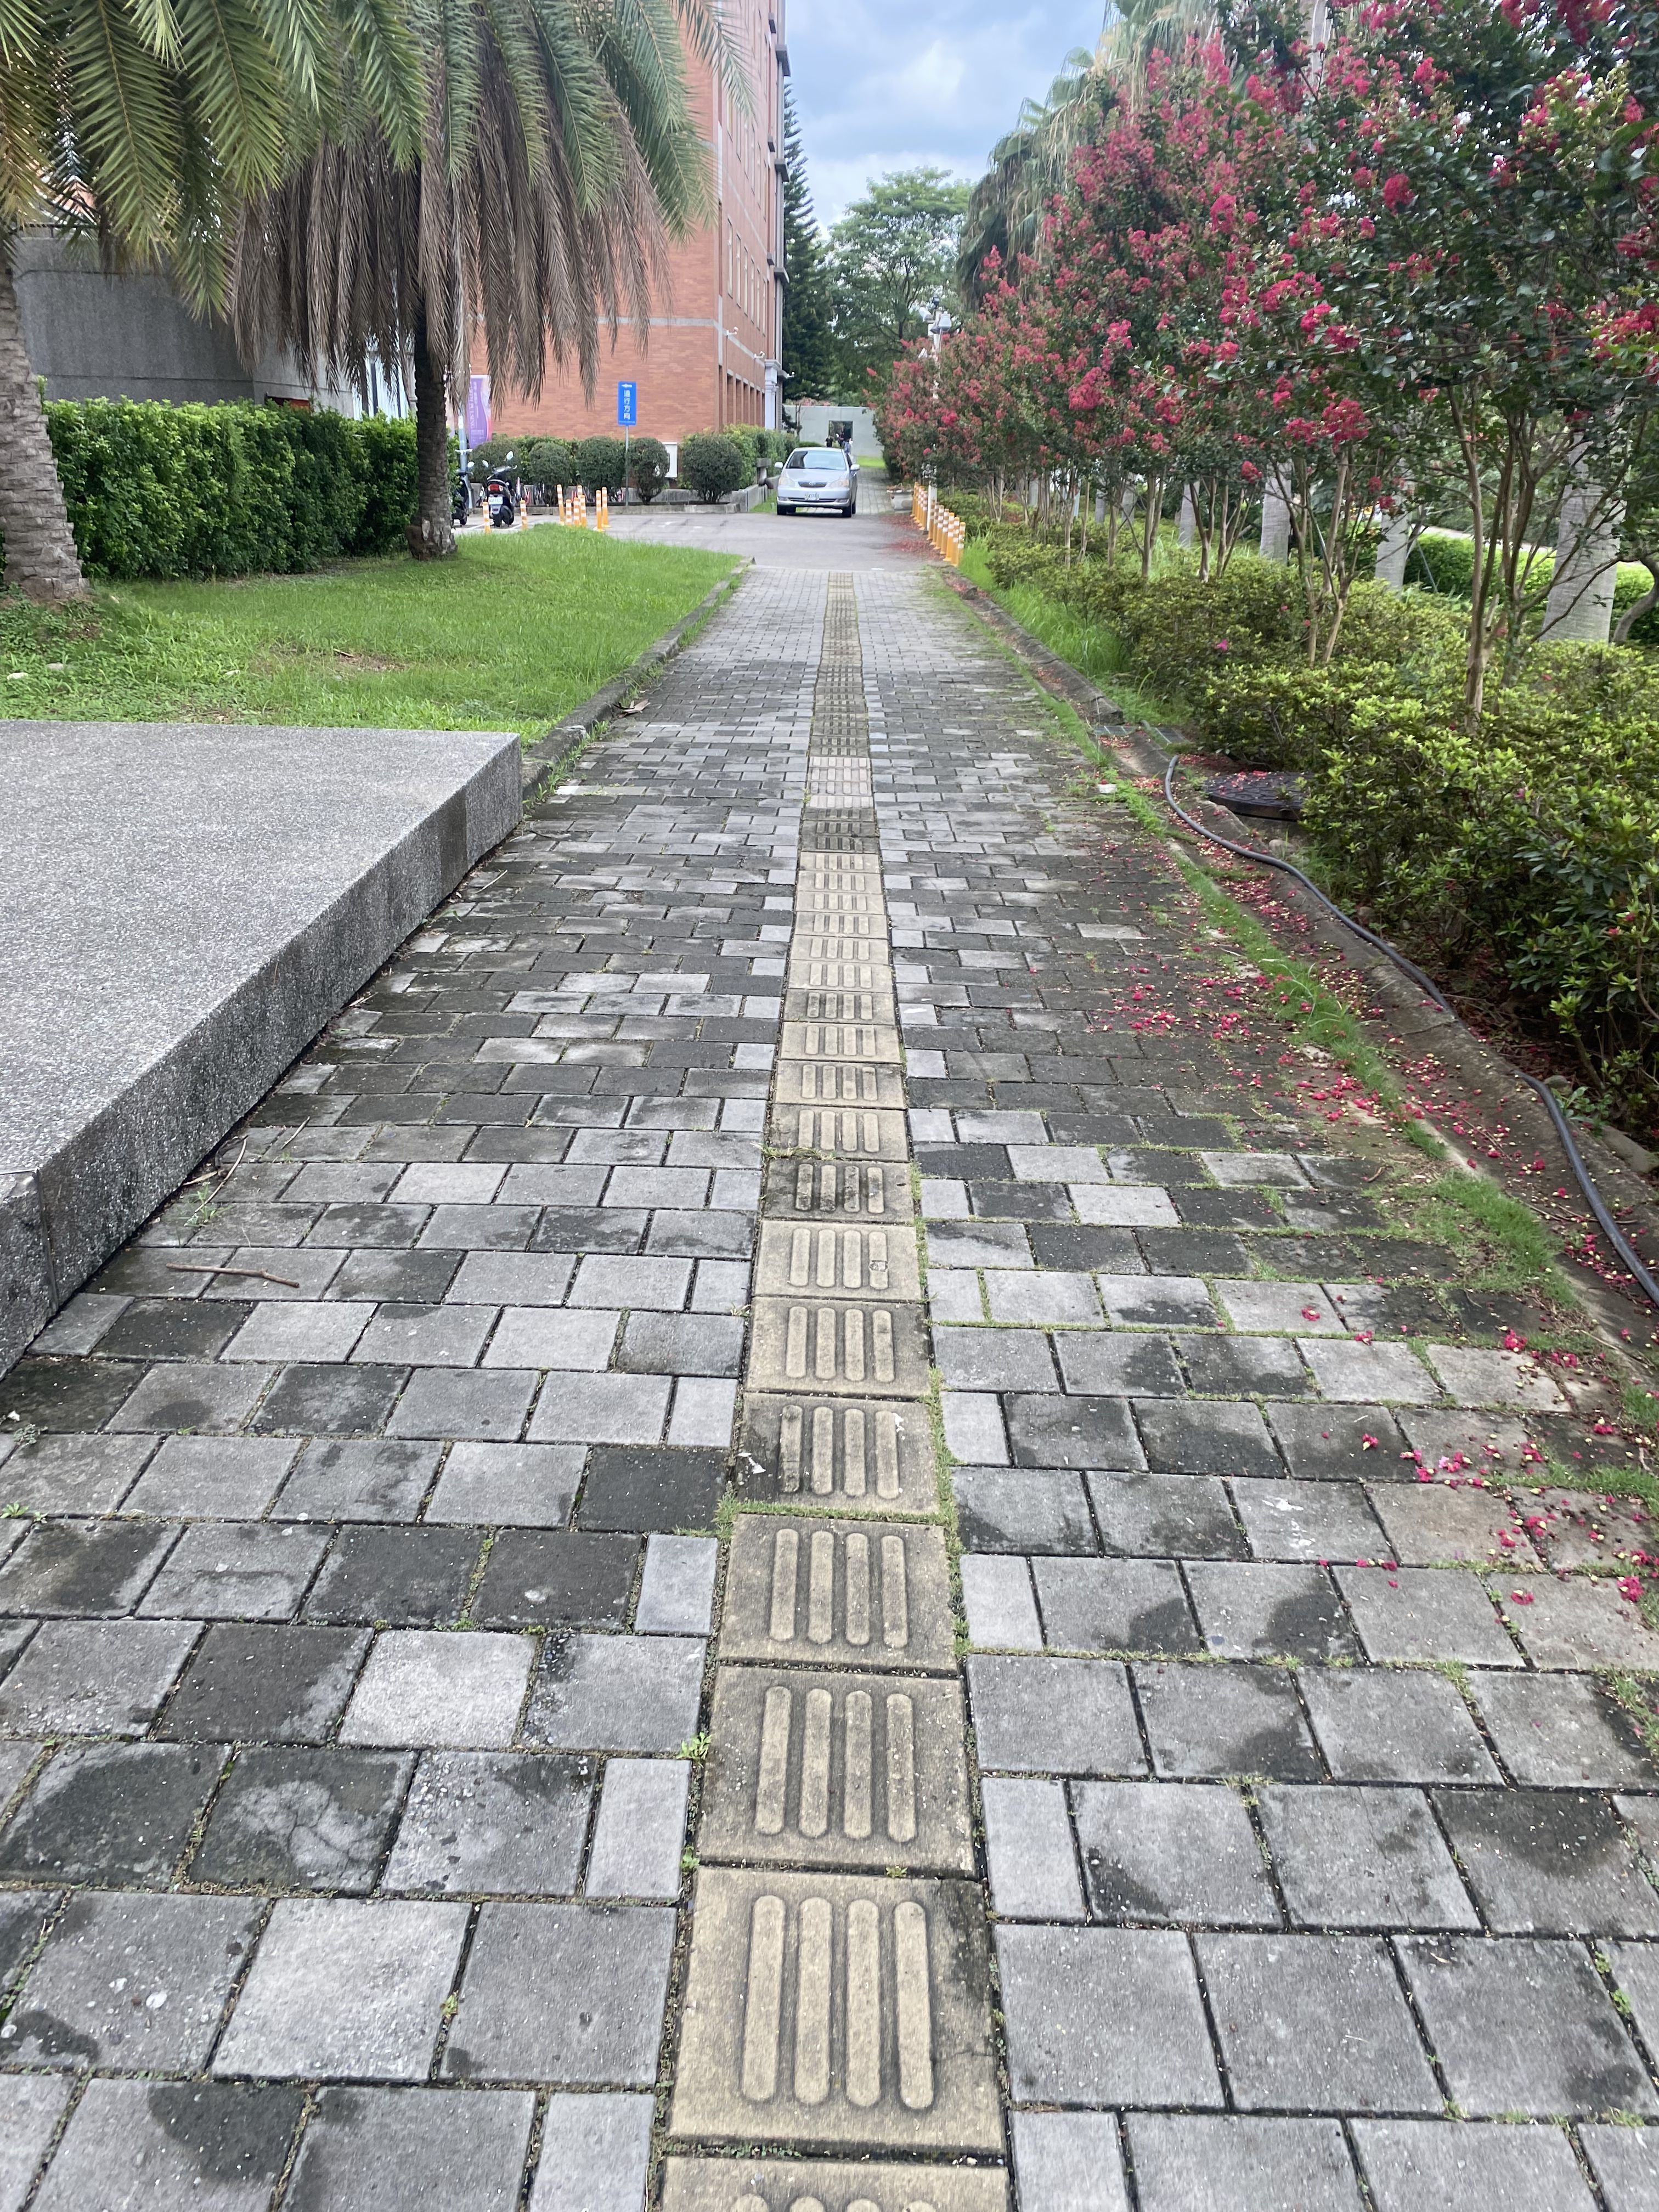0: (12, 712, 1659, 2212)
sidewalk: (624, 547, 1188, 1212)
